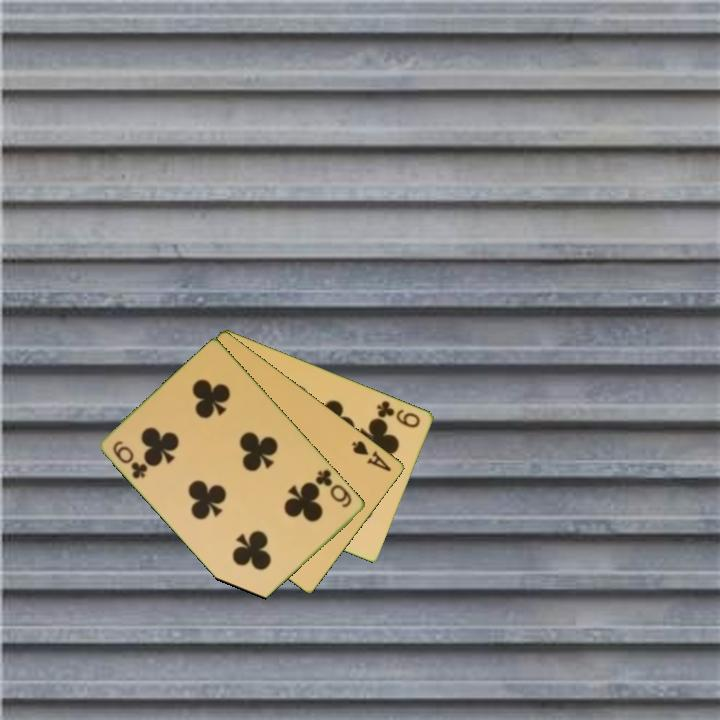6c: (312, 466, 355, 510), (109, 437, 151, 482)
9c: (374, 397, 423, 431)
As: (348, 437, 394, 475)
